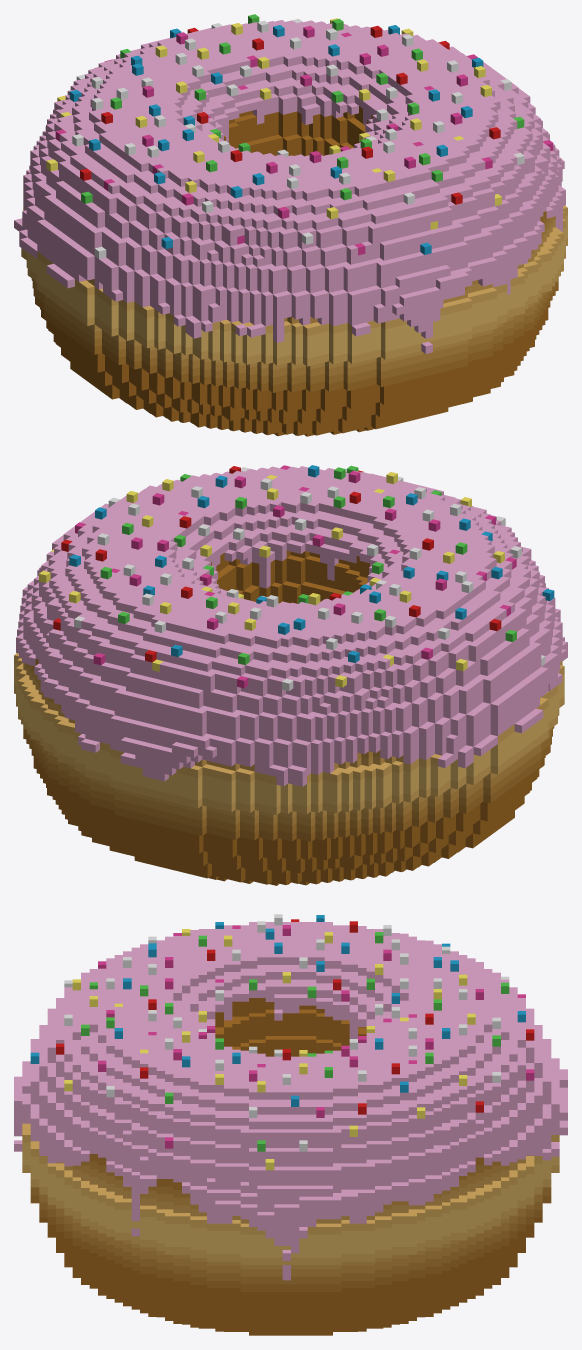
The model's file is donut.gltf.
The picture shows the model from 3 angles, top to bottom: view 1: azimuth 30°, elevation 25°; view 2: azimuth 150°, elevation 25°; view 3: azimuth 270°, elevation 25°; orthographic projection.
Parts seen in each view (by area): view 1: donut; view 2: donut; view 3: donut.
Part boxes in pixels (x1,y1,x2,y2): donut: (14, 14, 567, 436); donut: (14, 465, 567, 885); donut: (14, 914, 567, 1335).
Size of the model in its own units: 6.6 by 3.3 by 6.6.
1 material, 1 textured.
